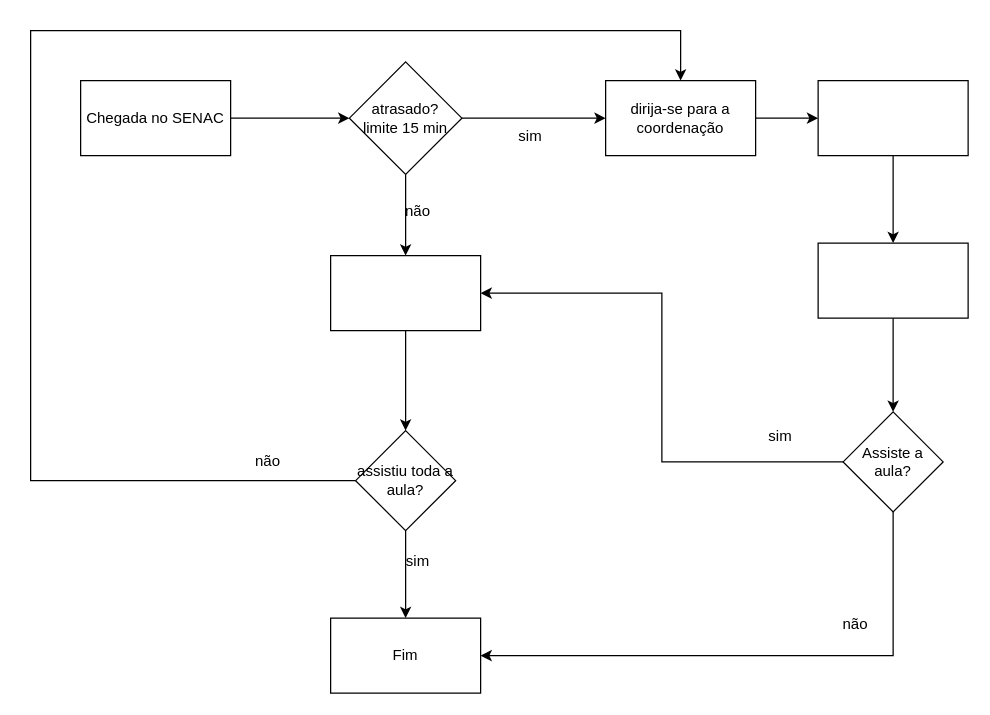
The diagram is 990 pixels wide and 715 high, and some of its shapes have lost their labels. Each missing label, with the centre of its shape:
"Entrega da autorização ao professor" goes at point (892, 280).
"Liberado pela coordenação" goes at point (892, 117).
"registro da presença inicial" goes at point (405, 292).
